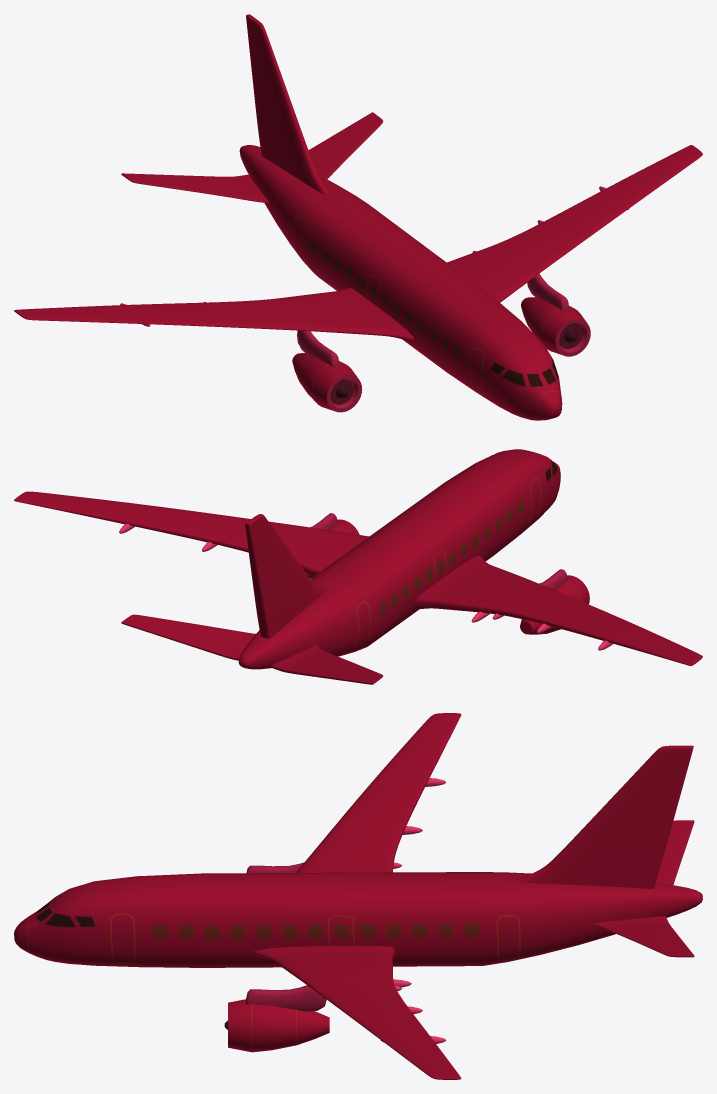
Rendered from airbus318_red.glb.
3 renders of one model, top to bottom at view 1: azimuth 30°, elevation 25°; view 2: azimuth 150°, elevation 25°; view 3: azimuth 270°, elevation 25°, orthographic. The views are drawn at different scales.
Visible parts, largest first — view 1: airbus318, wings, wing-back-vertical, turbine, wings-back-horizontal, turbine-pad; view 2: airbus318, wings, wing-back-vertical, wings-back-horizontal, turbine, turbine-pad; view 3: airbus318, wings, wing-back-vertical, turbine, wings-back-horizontal, turbine-pad.
Boxes of the visible parts, x1=… form: airbus318: x1=239, y1=145, x2=562, y2=420; wings: x1=14, y1=145, x2=702, y2=341; wing-back-vertical: x1=246, y1=14, x2=329, y2=195; turbine: x1=292, y1=297, x2=590, y2=412; wings-back-horizontal: x1=121, y1=112, x2=383, y2=203; turbine-pad: x1=297, y1=273, x2=569, y2=367; airbus318: x1=238, y1=449, x2=560, y2=669; wings: x1=14, y1=491, x2=702, y2=665; wing-back-vertical: x1=245, y1=514, x2=329, y2=638; wings-back-horizontal: x1=121, y1=614, x2=382, y2=684; turbine: x1=306, y1=519, x2=589, y2=634; turbine-pad: x1=310, y1=513, x2=567, y2=590; airbus318: x1=14, y1=872, x2=702, y2=967; wings: x1=251, y1=713, x2=461, y2=1079; wing-back-vertical: x1=515, y1=745, x2=693, y2=888; turbine: x1=224, y1=999, x2=329, y2=1052; wings-back-horizontal: x1=592, y1=820, x2=694, y2=957; turbine-pad: x1=245, y1=862, x2=326, y2=1011.
Size of the model in its own units: 4.66 by 1.44 by 3.71.
Materials: 1 (1 with a texture image).
